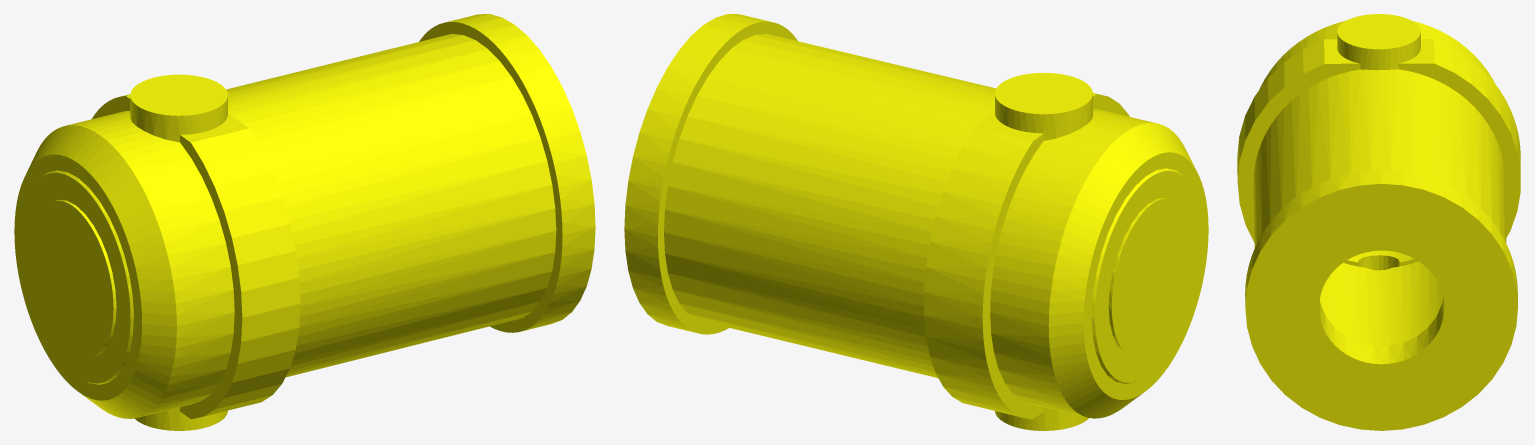
The picture shows the model from 3 angles, left to right: view 1: azimuth 30°, elevation 25°; view 2: azimuth 150°, elevation 25°; view 3: azimuth 270°, elevation 25°; orthographic projection. The views are drawn at different scales.
Visible parts, largest first — view 1: node; view 2: node; view 3: node.
Part boxes in pixels (<box>): node: <box>14,14,595,430</box>; node: <box>624,14,1208,430</box>; node: <box>1237,14,1520,430</box>.
Bounding box in the file's own units: 535 × 362 × 344.
